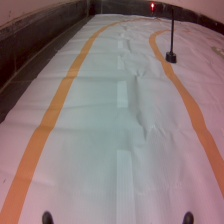red: (146, 1, 179, 66)
